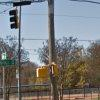Traffic light: (8, 5, 27, 31)
